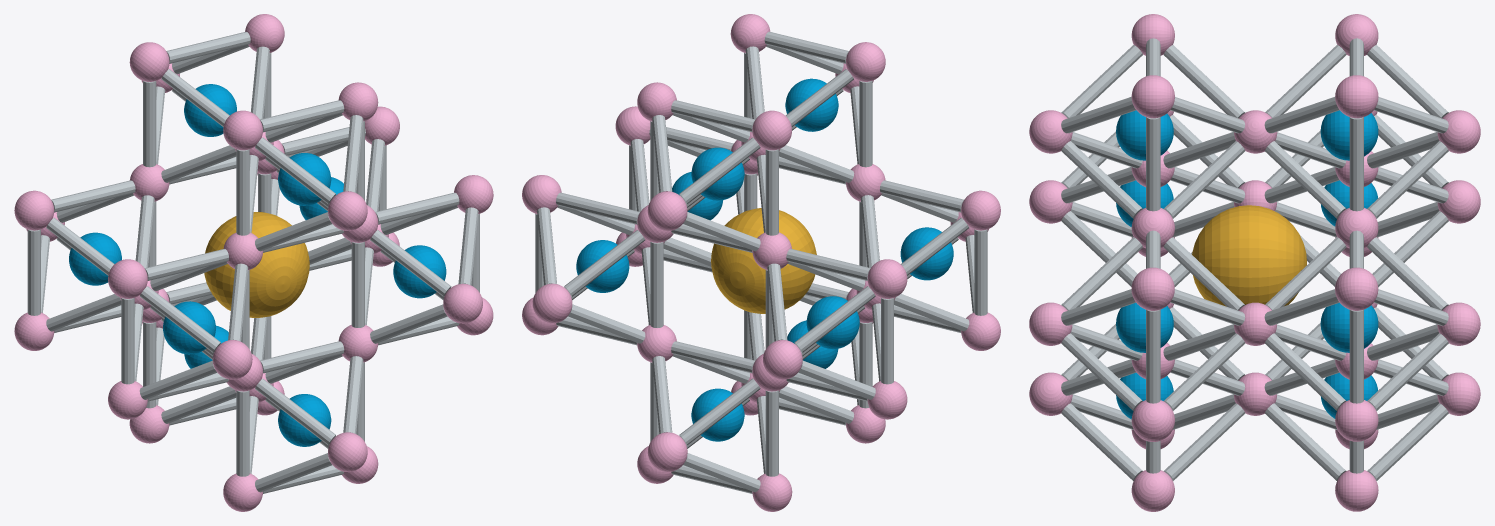
Rendered from Perovskite1.1.dae.
3 views of the same model, side by side, from view 1: azimuth 30°, elevation 25°; view 2: azimuth 150°, elevation 25°; view 3: azimuth 270°, elevation 25° (orthographic). The views are drawn at different scales.
Parts seen in each view (by area): view 1: obj_0; view 2: obj_0; view 3: obj_0.
Part boxes in pixels (x1,y1,x2,y2): obj_0: (14, 14, 493, 511); obj_0: (522, 14, 1000, 511); obj_0: (1029, 14, 1480, 511).
Size of the model in its own units: 66 by 66 by 62.42.
